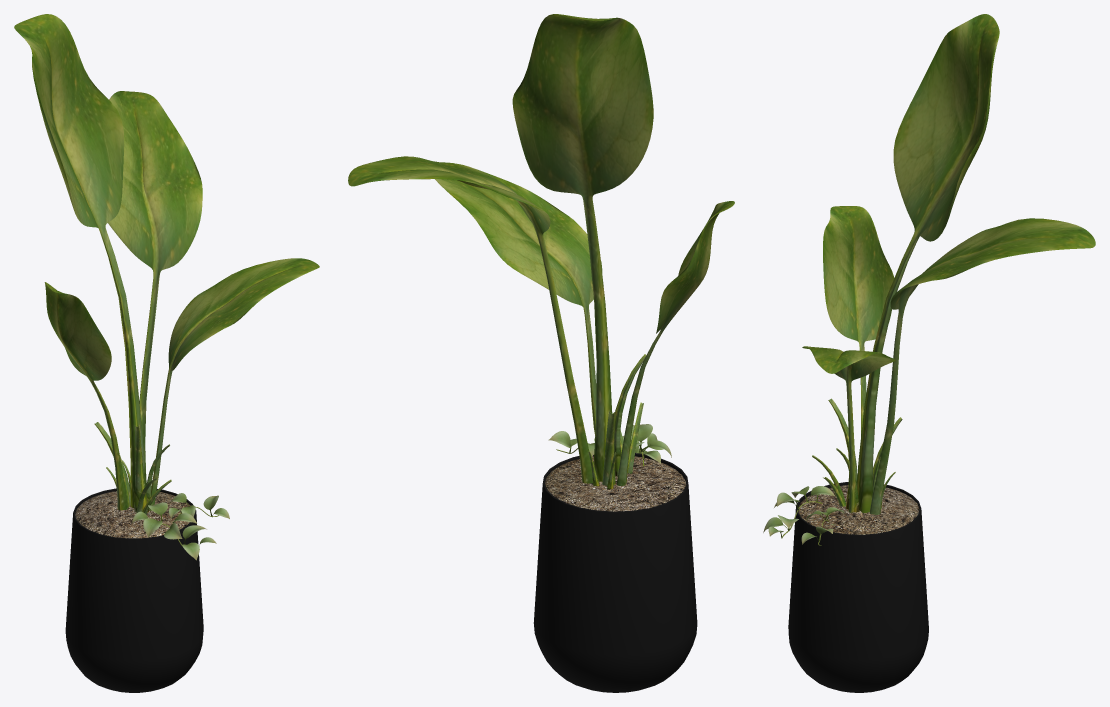
Rendered from plant.glb.
The picture shows the model from 3 angles, left to right: view 1: azimuth 30°, elevation 25°; view 2: azimuth 150°, elevation 25°; view 3: azimuth 270°, elevation 25°; orthographic projection. The views are drawn at different scales.
Visible parts, largest first — view 1: SM_PROP_plant; view 2: SM_PROP_plant; view 3: SM_PROP_plant.
Boxes of the visible parts, x1,y1,x2,y2 form: SM_PROP_plant: [14, 14, 319, 692]; SM_PROP_plant: [348, 14, 734, 692]; SM_PROP_plant: [763, 14, 1095, 692].
Bounding box in the file's own units: 0.7866 × 1.78 × 0.8428.
Materials: 4 (3 with a texture image).
